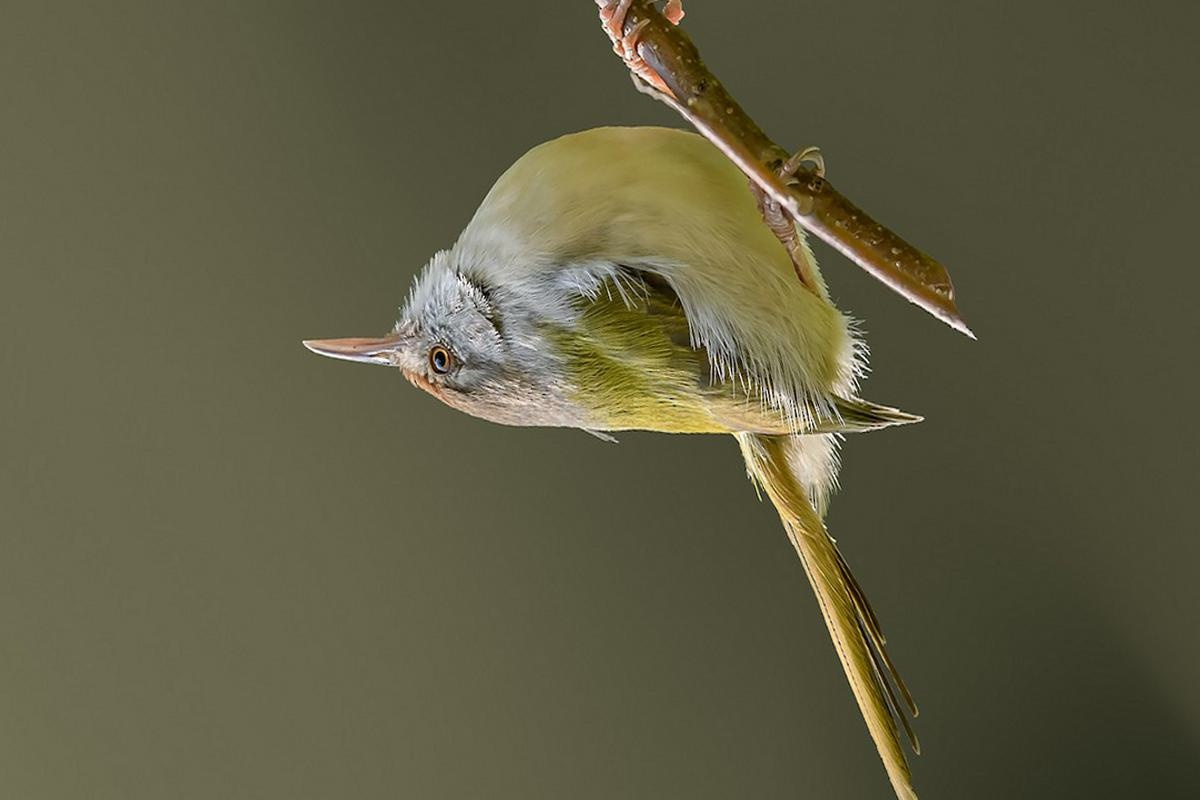tailorbird: (295, 96, 939, 785)
